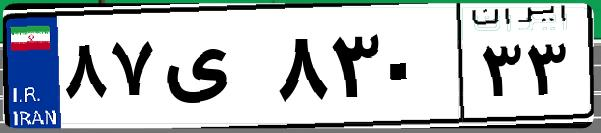0: (385, 28, 445, 110)
3: (330, 28, 385, 110), (475, 38, 525, 113), (525, 38, 570, 115)
7: (110, 28, 158, 98)
8: (270, 28, 330, 110), (57, 26, 110, 100)
ی: (158, 20, 270, 120)
